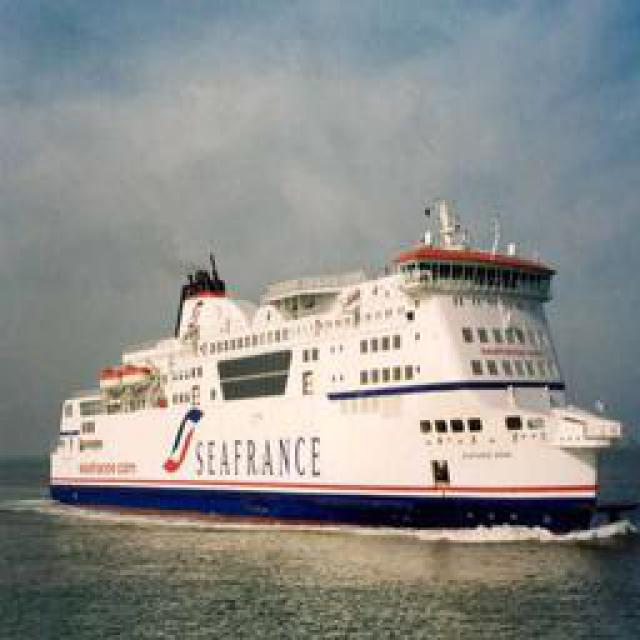Ship: (46, 200, 626, 520)
